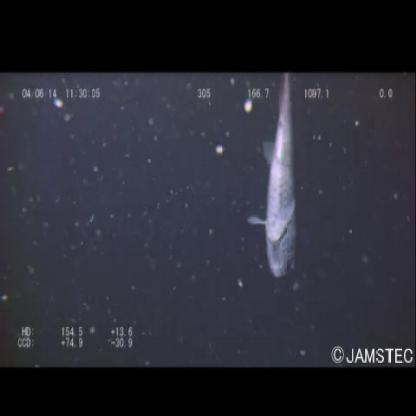Bio: (244, 72, 305, 282)
